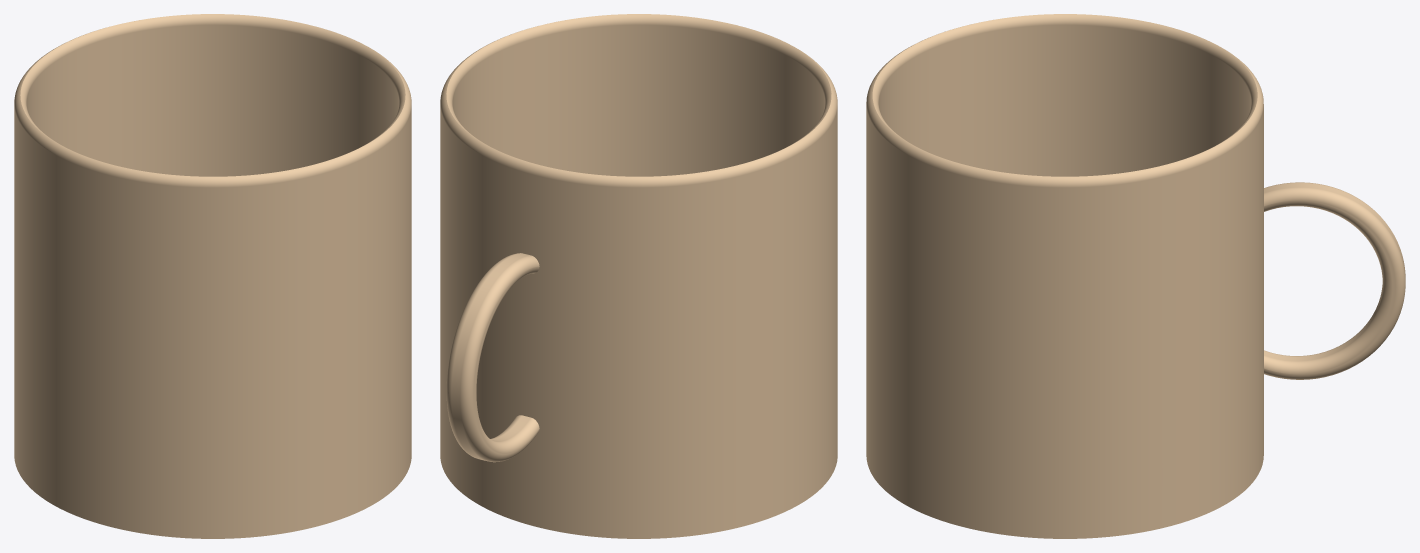
The model's file is CoffeeMug.dae.
The picture shows the model from 3 angles, left to right: view 1: azimuth 30°, elevation 25°; view 2: azimuth 150°, elevation 25°; view 3: azimuth 270°, elevation 25°; orthographic projection.
Parts seen in each view (by area): view 1: 61673820fe970127fce6537e; view 2: 61673820fe970127fce6537e (×2); view 3: 61673820fe970127fce6537e (×2).
Boxes of the visible parts, x1,y1,x2,y2 form: 61673820fe970127fce6537e: (14, 14, 411, 538); 61673820fe970127fce6537e (×2): (440, 14, 837, 538); 61673820fe970127fce6537e (×2): (866, 14, 1405, 538).
Bounding box in the file's own units: 0.1016 × 0.1378 × 0.1014.
